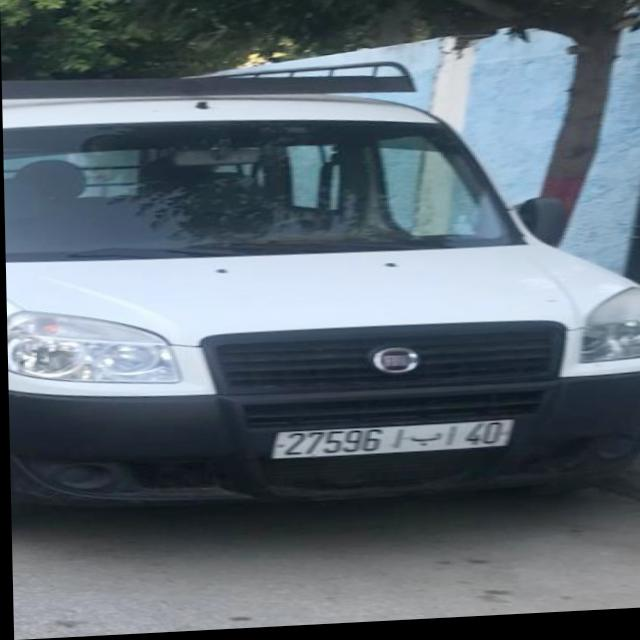License-Plate: (272, 426, 512, 462)
